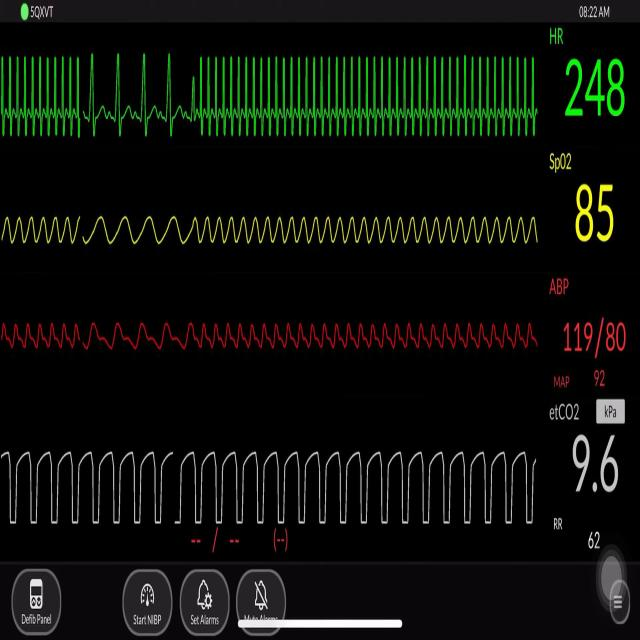danger: (191, 43, 542, 153), (4, 49, 86, 148)
